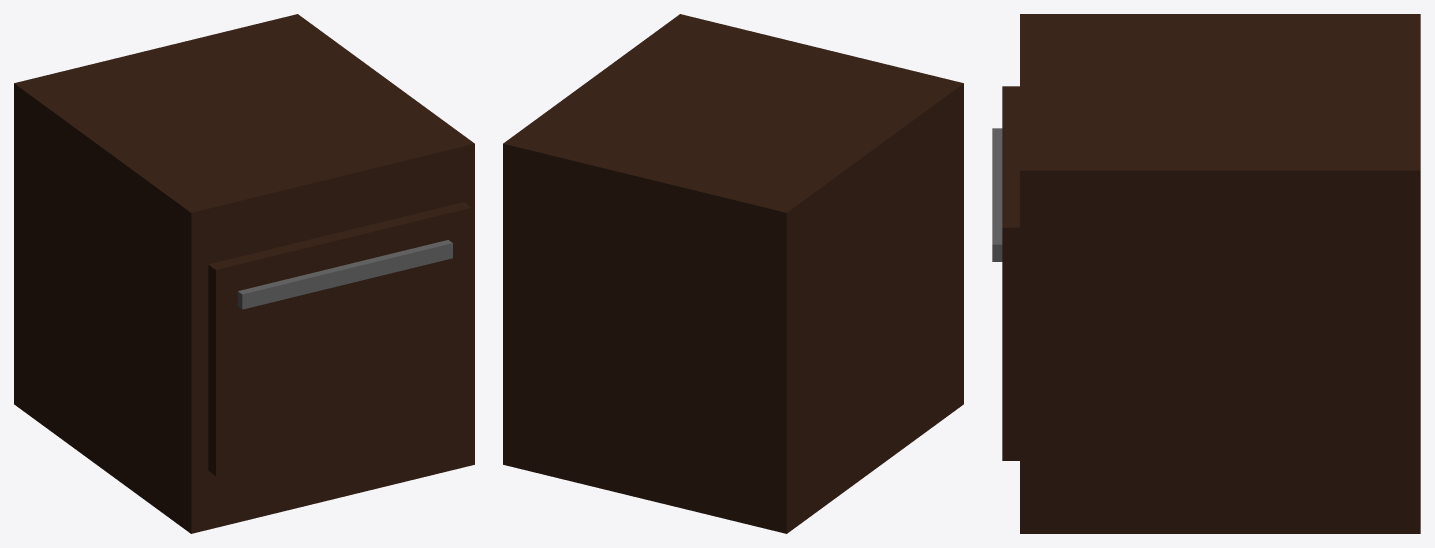
File: nightstand.fbx
3 renders of one model, left to right at view 1: azimuth 30°, elevation 25°; view 2: azimuth 150°, elevation 25°; view 3: azimuth 270°, elevation 25°, orthographic. The views are drawn at different scales.
Parts seen in each view (by area): view 1: Cube; view 2: Cube; view 3: Cube.
Part boxes in pixels (left/top/right/bottom): Cube: left=14, top=14, right=474, bottom=533; Cube: left=503, top=14, right=963, bottom=533; Cube: left=992, top=14, right=1420, bottom=533.
Size of the model in its own units: 346 by 374 by 400.
